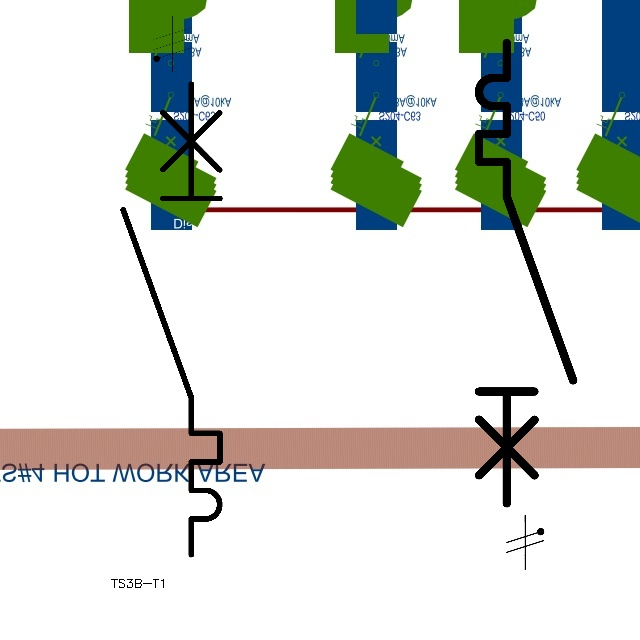interruptor_termomagnetico: (111, 72, 232, 567), (467, 31, 585, 515)
